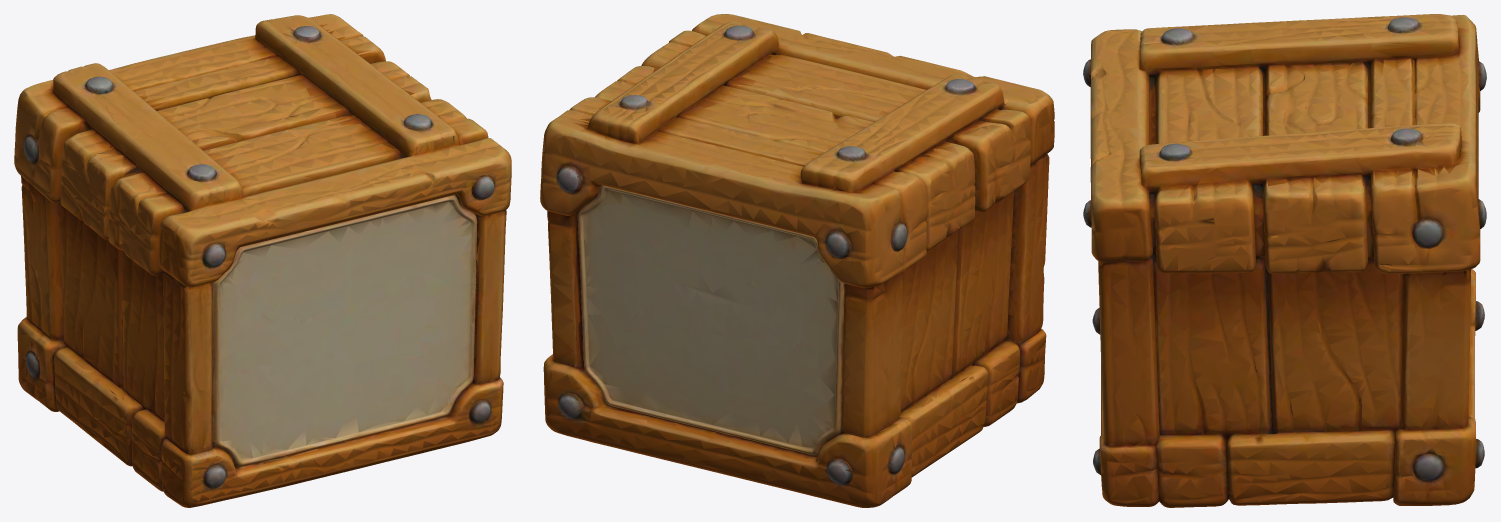
File: crate.glb
3 renders of one model, left to right at view 1: azimuth 30°, elevation 25°; view 2: azimuth 150°, elevation 25°; view 3: azimuth 270°, elevation 25°, orthographic. The views are drawn at different scales.
Visible parts, largest first — view 1: tripo_node_9f7b692b; view 2: tripo_node_9f7b692b; view 3: tripo_node_9f7b692b.
Boxes of the visible parts, x1,y1,x2,y2 form: tripo_node_9f7b692b: [14, 14, 511, 507]; tripo_node_9f7b692b: [540, 14, 1054, 507]; tripo_node_9f7b692b: [1083, 14, 1486, 507].
Bounding box in the file's own units: 0.9804 × 0.9033 × 0.9289.
Materials: 1 (1 with a texture image).
